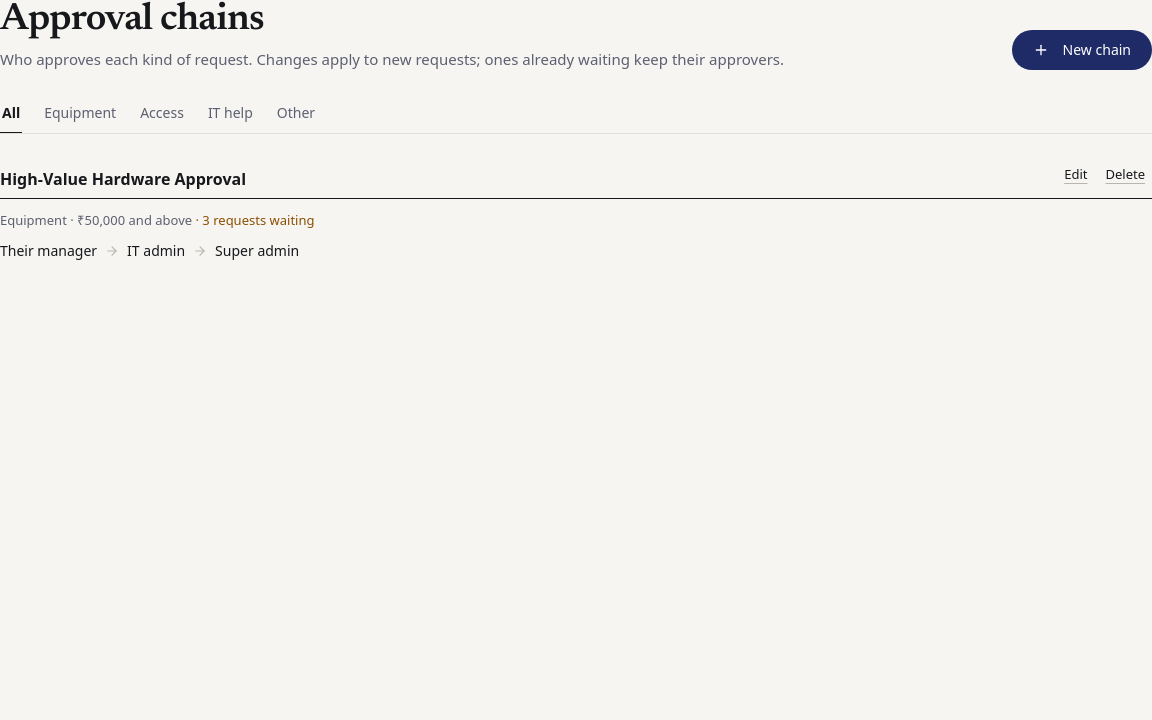
Test case: Approval Chain Configuration › won’t delete a chain that requests are still waiting on
Click the button with aria-label "Delete High-Value Hardware Approval". click: (1125, 174)
box: [1098,158,1151,190]
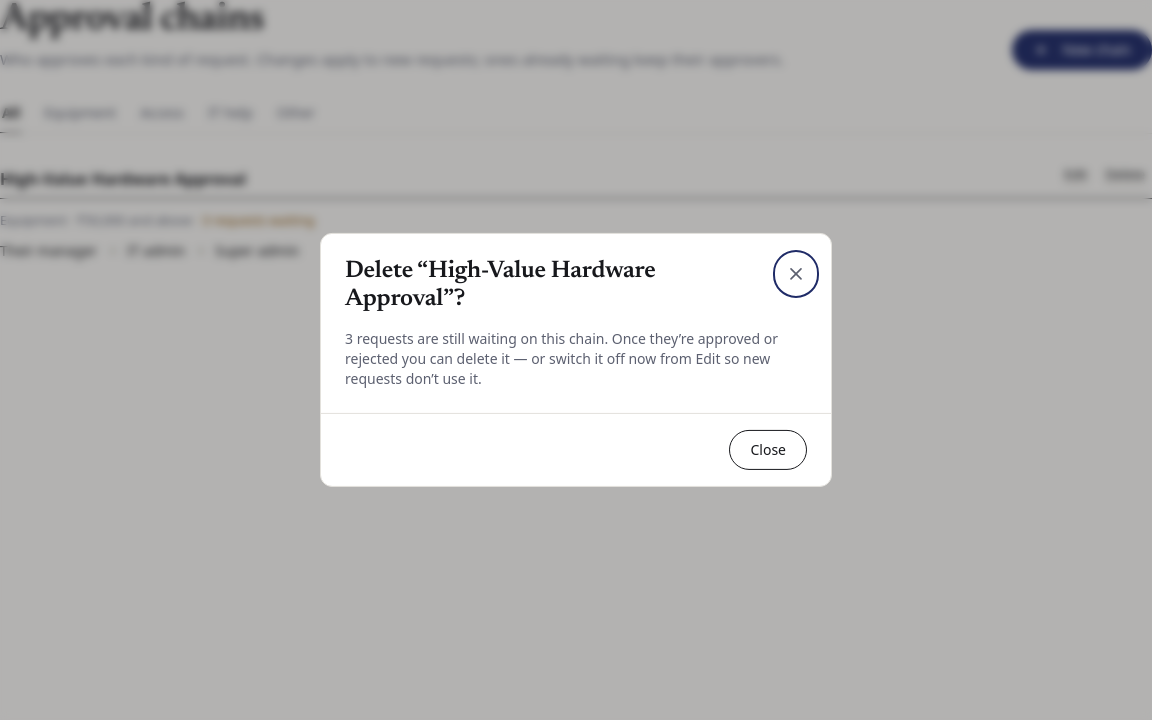
Result: the dialog "Delete “High-Value Hardware Approval”?" is shown at [320,233,832,487]
Result: the text "3 requests are still waiting on this chain" is shown at [345,329,778,388]
